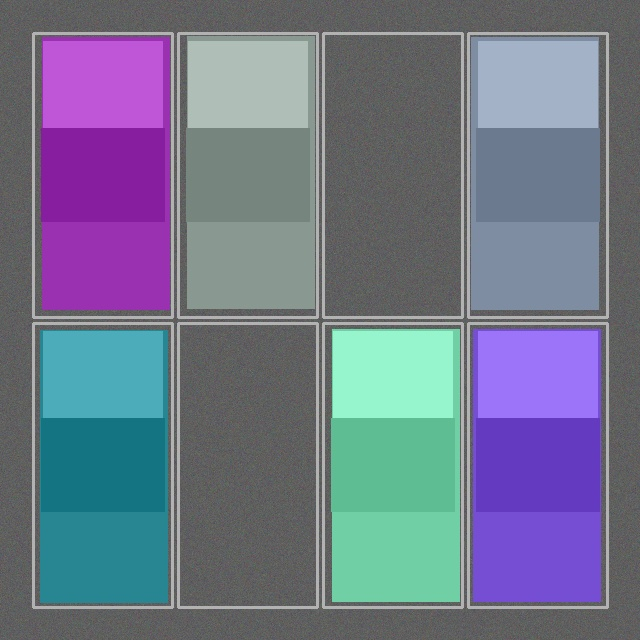space-empty: (325, 35, 460, 315), (180, 325, 315, 605)
space-occupied: (35, 35, 170, 315), (180, 35, 315, 315), (470, 35, 605, 315), (35, 325, 170, 605), (325, 325, 460, 605), (470, 325, 605, 605)
